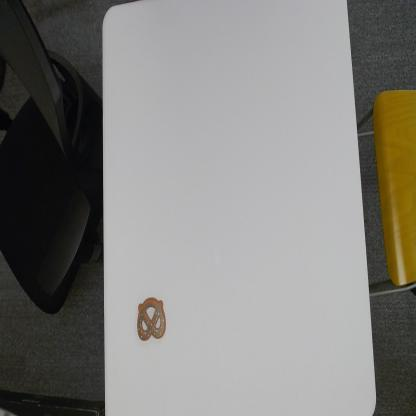Pretzel: (135, 295, 167, 342)
